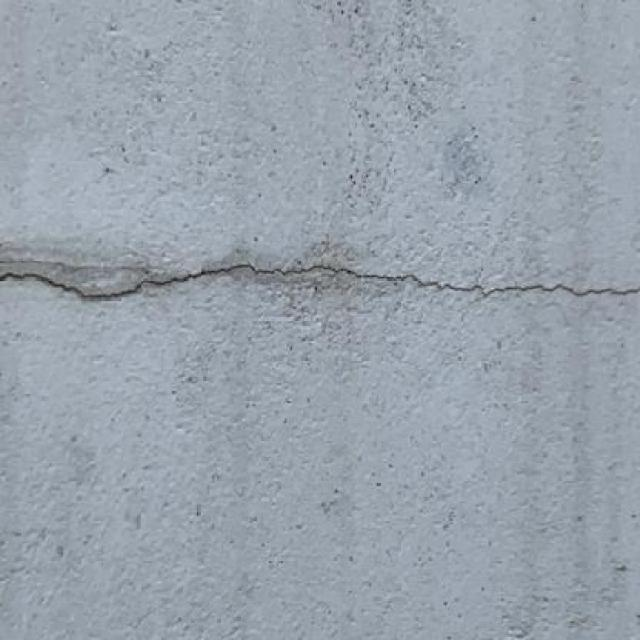GRIETA: (0, 263, 639, 300)
